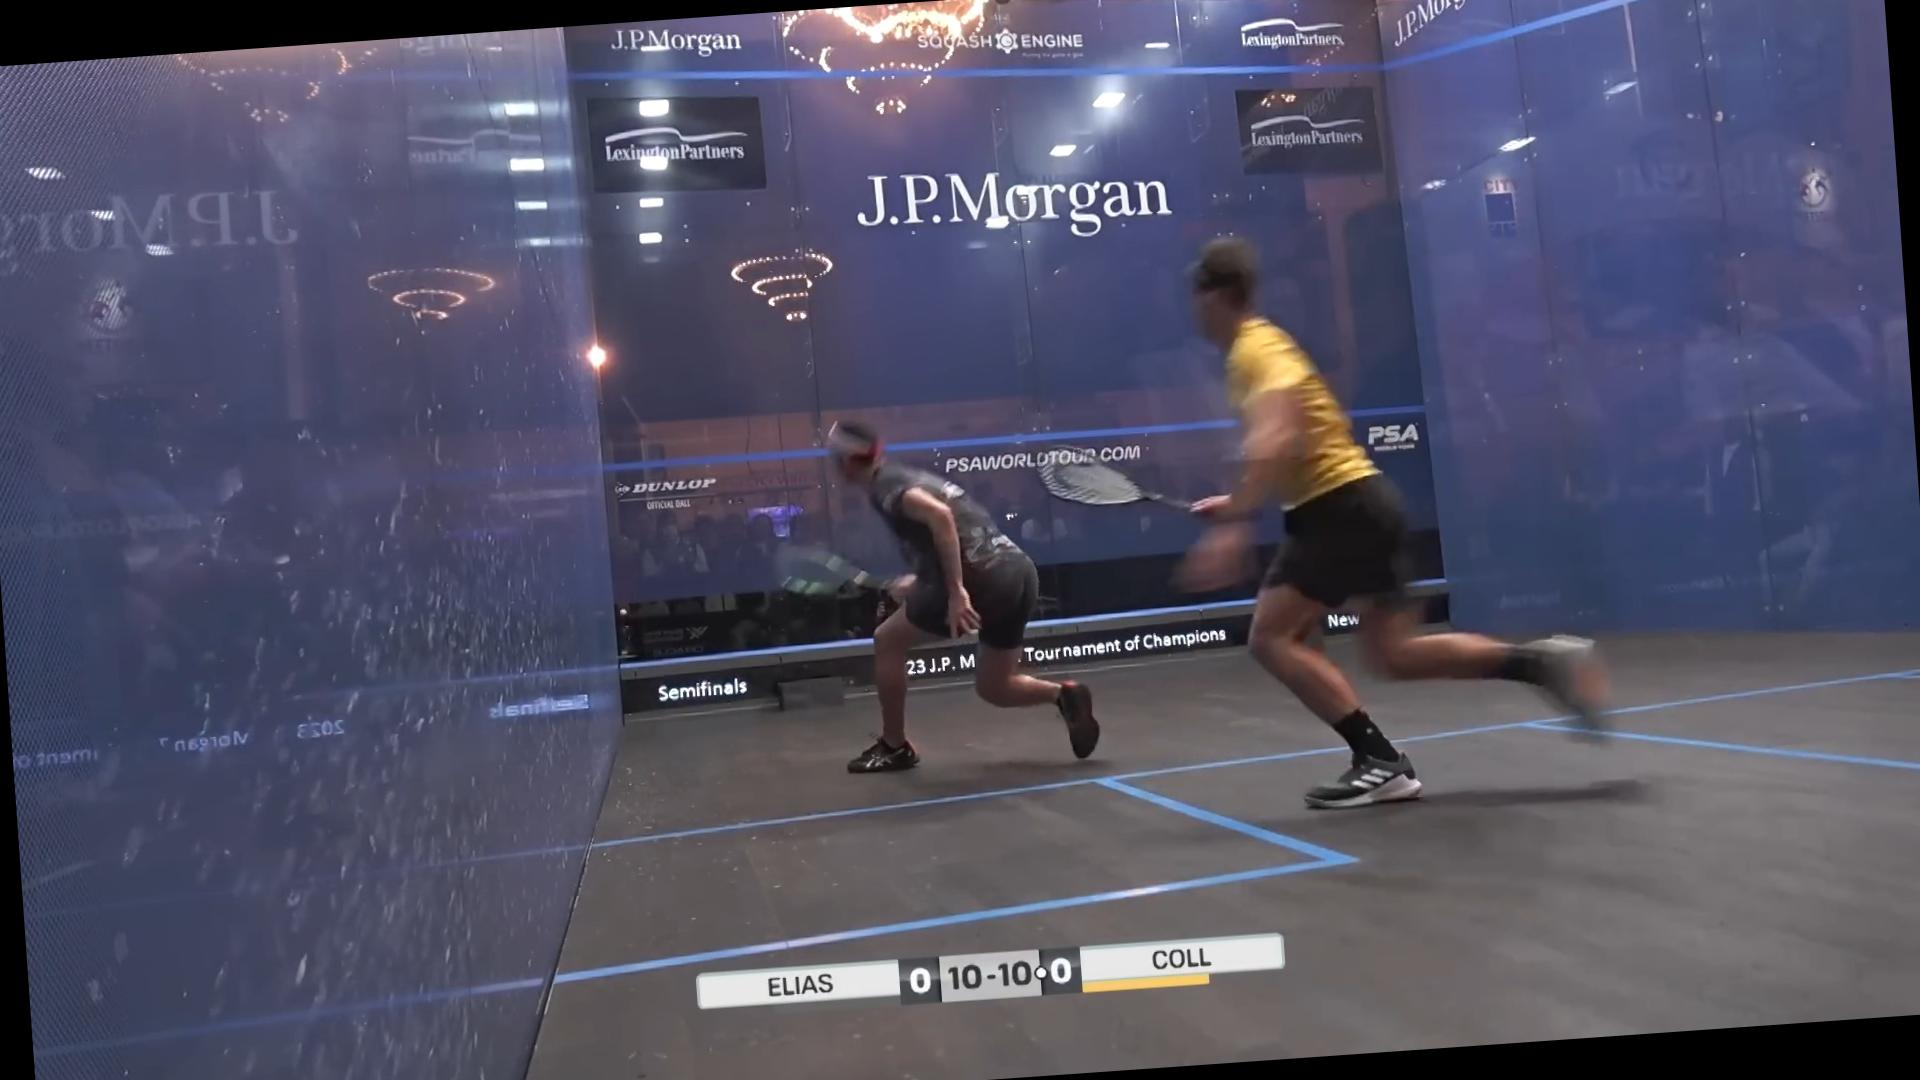Racket: (1022, 426, 1209, 535), (764, 525, 899, 611)
